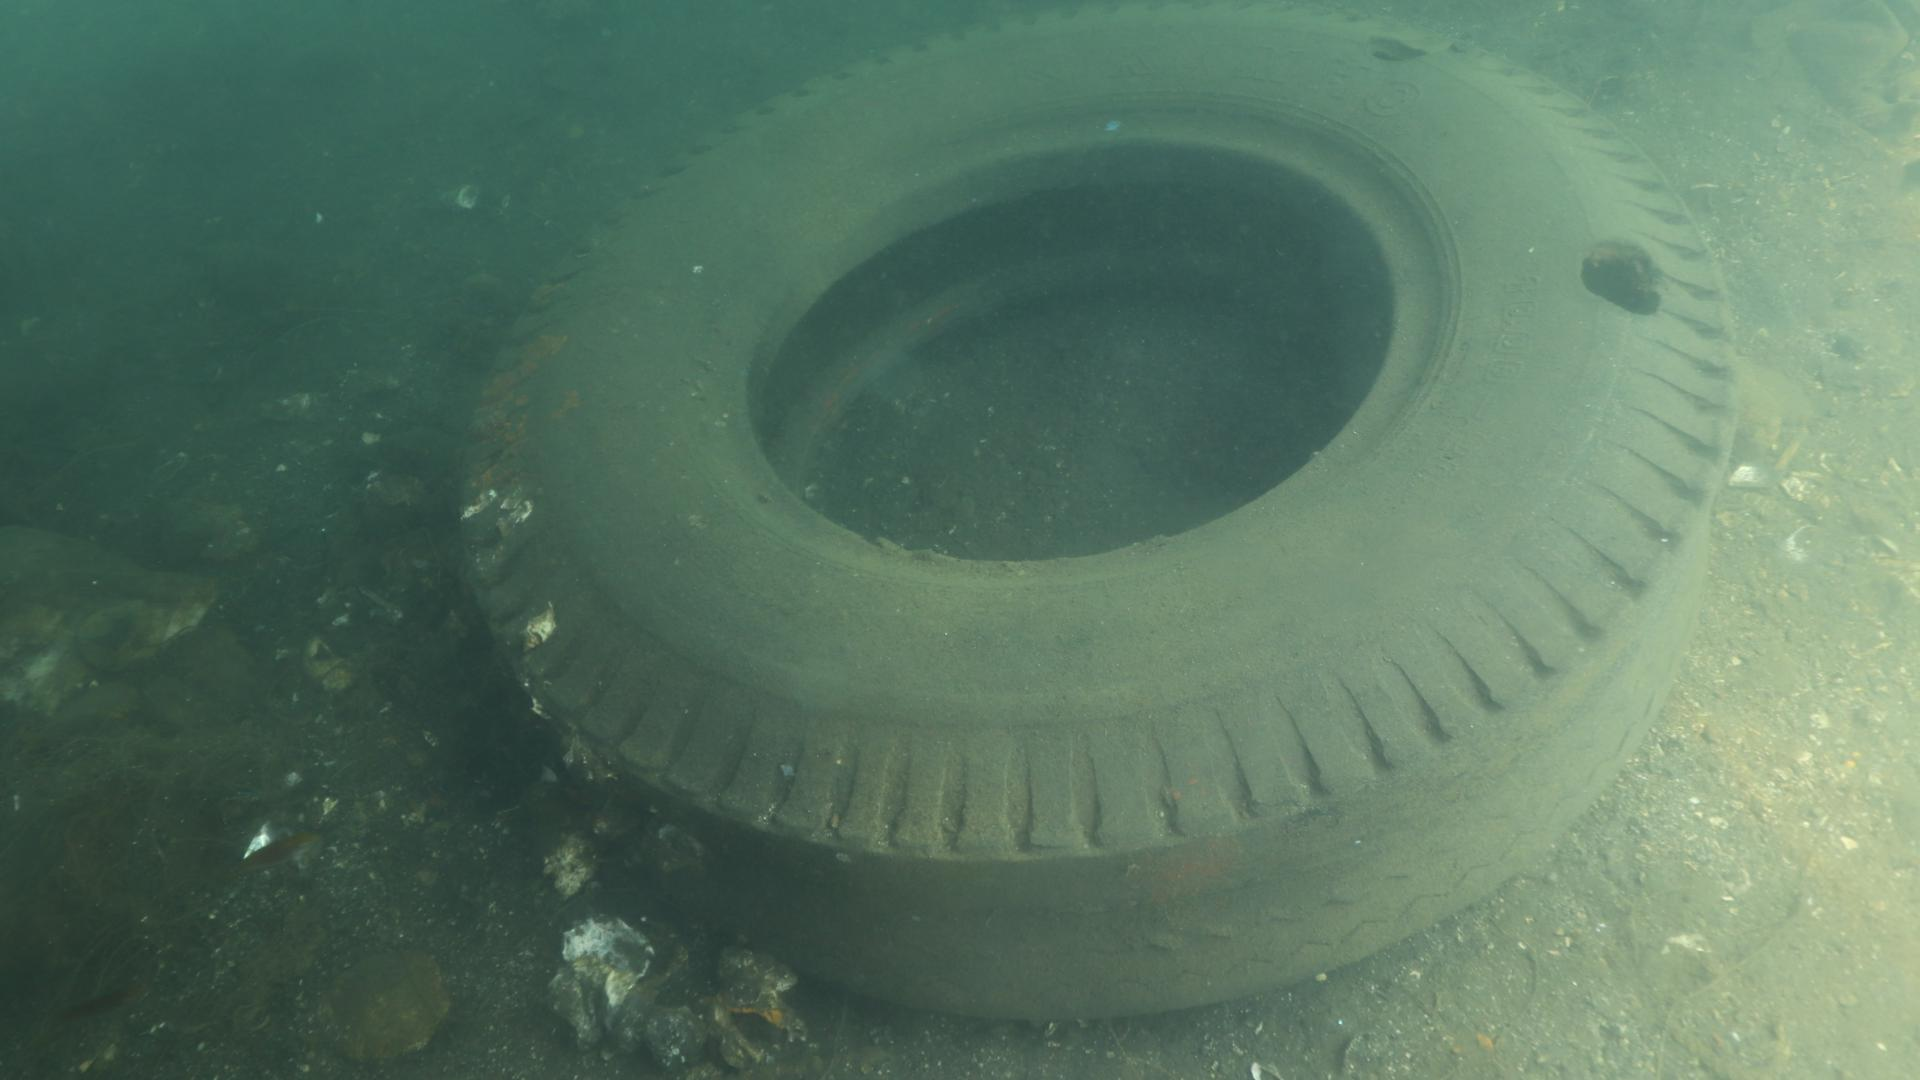tire: (456, 0, 1738, 1025)
